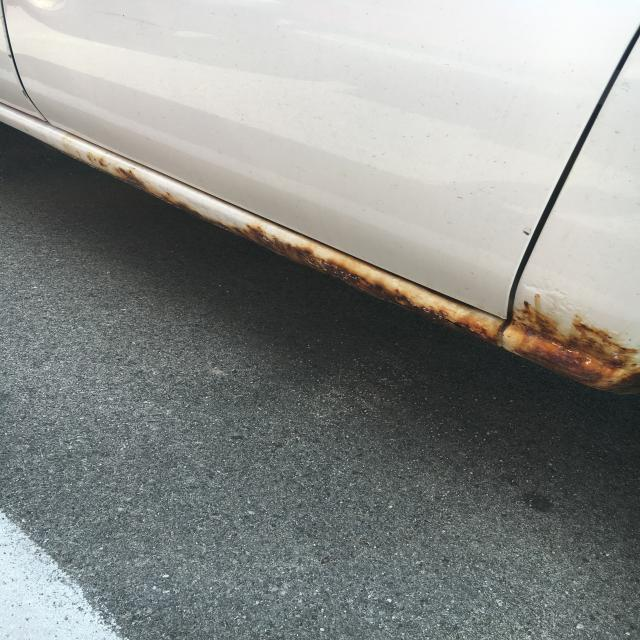corrosion: (221, 216, 640, 462), (66, 141, 204, 215)
